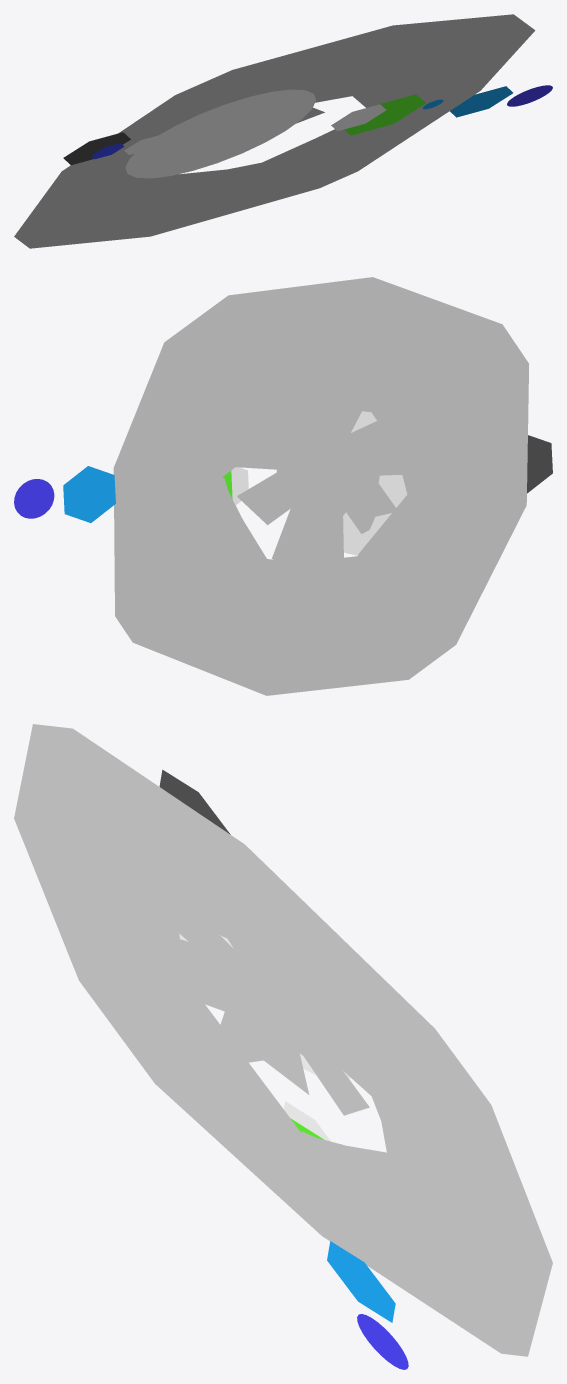
File: pref_fx_score_commonblast_02_000103_lv3.fbx
3 views of the same model, one above another, from view 1: azimuth 30°, elevation 25°; view 2: azimuth 150°, elevation 25°; view 3: azimuth 270°, elevation 25° (orthographic). The views are drawn at different scales.
Visible parts, largest first — view 1: sm_hong, sm_guangban, sm_spinous; view 2: sm_hong, sm_spinous, sm_guangban; view 3: sm_hong, sm_spinous, sm_guangban.
Part boxes in pixels (x1,y1,x2,y2): sm_hong: [14, 14, 535, 248]; sm_guangban: [63, 85, 552, 178]; sm_spinous: [296, 87, 351, 123]; sm_hong: [113, 277, 529, 695]; sm_spinous: [215, 328, 442, 574]; sm_guangban: [14, 411, 552, 555]; sm_hong: [14, 724, 552, 1356]; sm_spinous: [113, 820, 417, 1129]; sm_guangban: [159, 769, 408, 1369].
Size of what is drawn, in the model's own units: 8.57 by 4.9 by 4.9.
